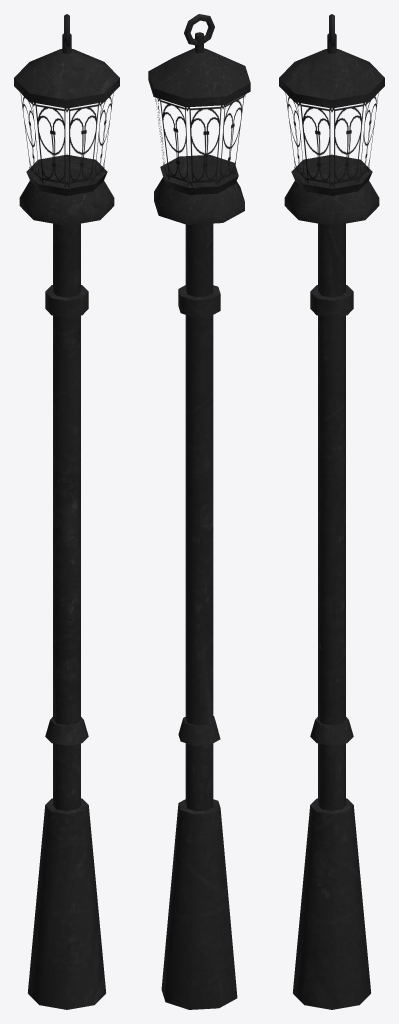
Rendered from streetlamp.glb.
The picture shows the model from 3 angles, left to right: view 1: azimuth 90°, elevation 25°; view 2: azimuth 210°, elevation 25°; view 3: azimuth 270°, elevation 25°; orthographic projection.
Visible parts, largest first — view 1: Cylinder; view 2: Cylinder; view 3: Cylinder.
Part boxes in pixels (<box>): Cylinder: <box>14,14,119,1009</box>; Cylinder: <box>148,14,250,1009</box>; Cylinder: <box>279,14,384,1009</box>.
Size of the model in its own units: 1.12 by 11.44 by 1.12.
Materials: 2 (2 with a texture image).
